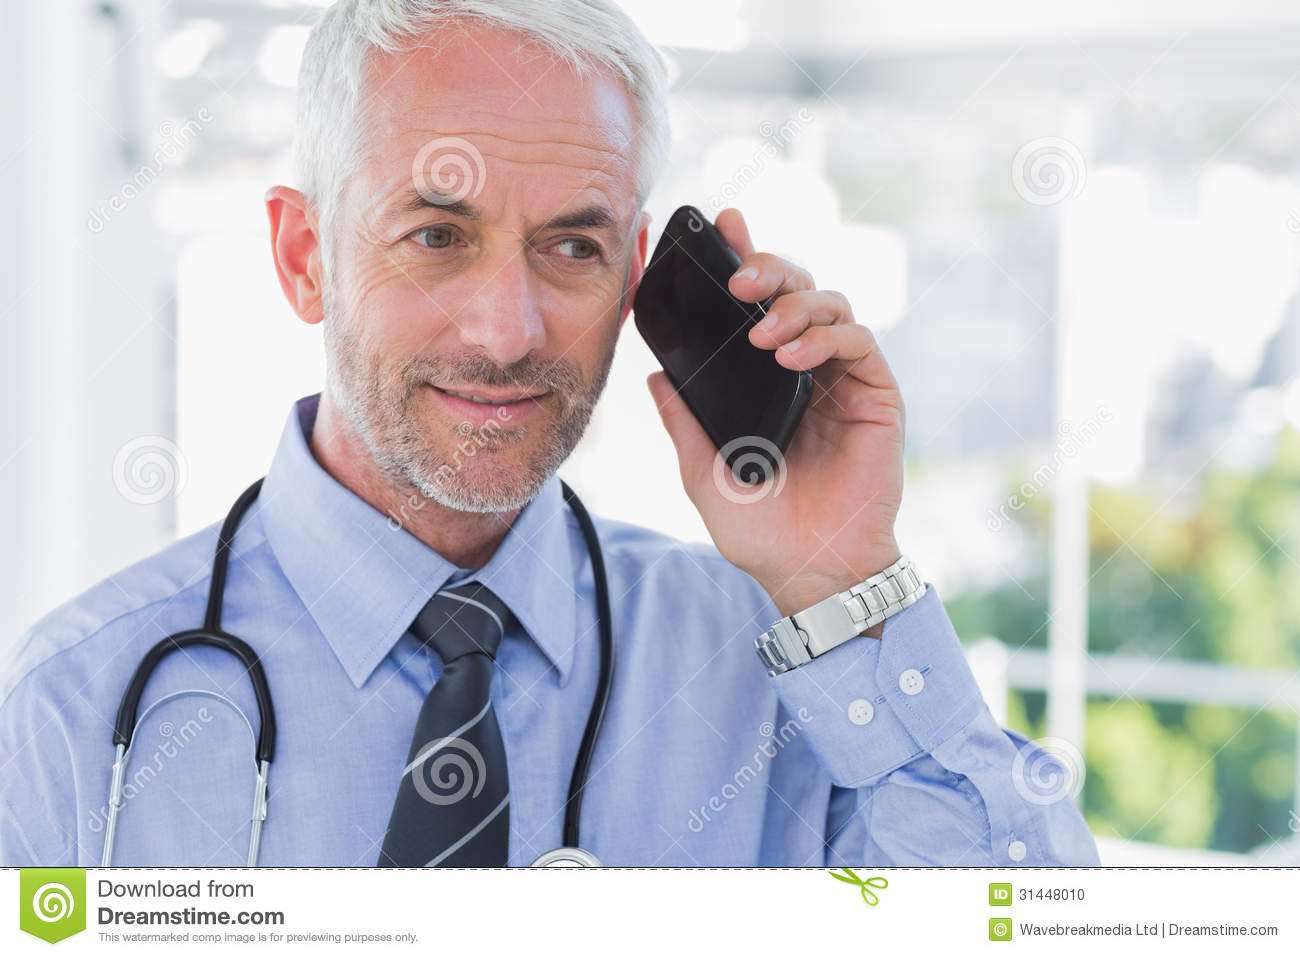phone: (634, 203, 817, 480)
talk: (362, 163, 897, 619)
